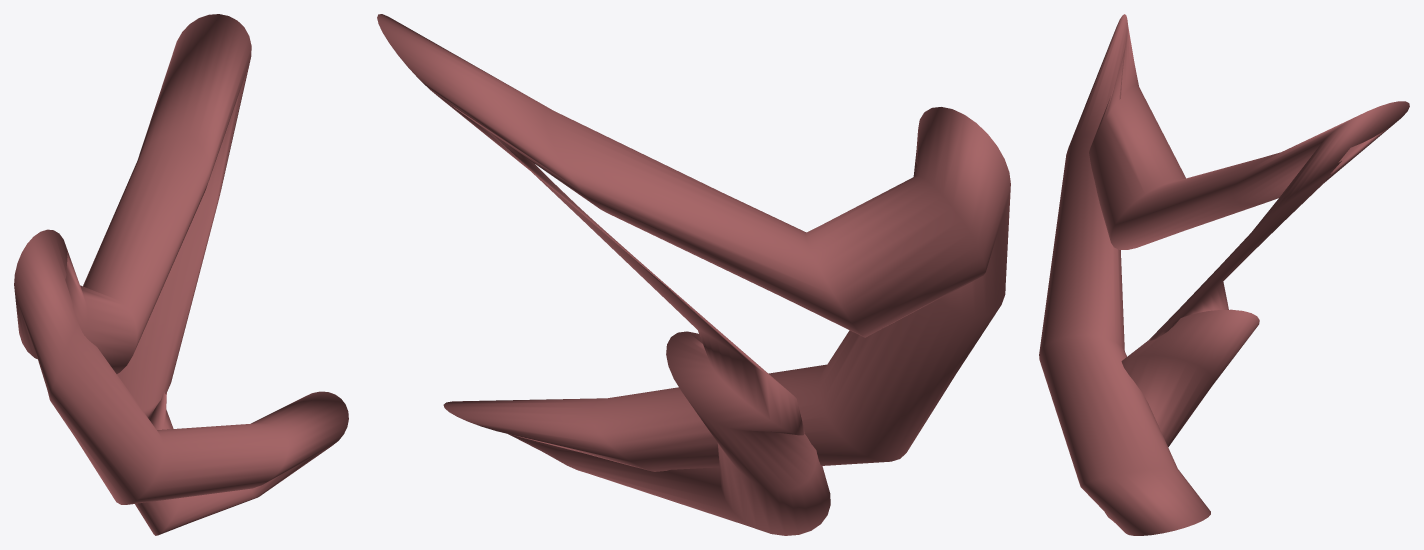
The picture shows the model from 3 angles, left to right: view 1: azimuth 30°, elevation 25°; view 2: azimuth 150°, elevation 25°; view 3: azimuth 270°, elevation 25°; orthographic projection. The views are drawn at different scales.
Visible parts, largest first — view 1: SM_E; view 2: SM_E; view 3: SM_E.
Boxes of the visible parts, x1,y1,x2,y2 form: SM_E: [14, 14, 348, 535]; SM_E: [377, 14, 1010, 535]; SM_E: [1039, 14, 1409, 535].
Size of the model in its own units: 6.98 by 7.28 by 5.16.
